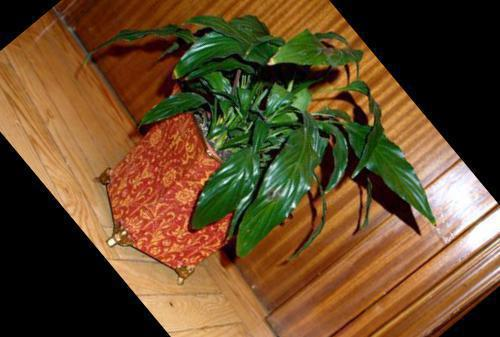Matera: (2, 0, 474, 337)
